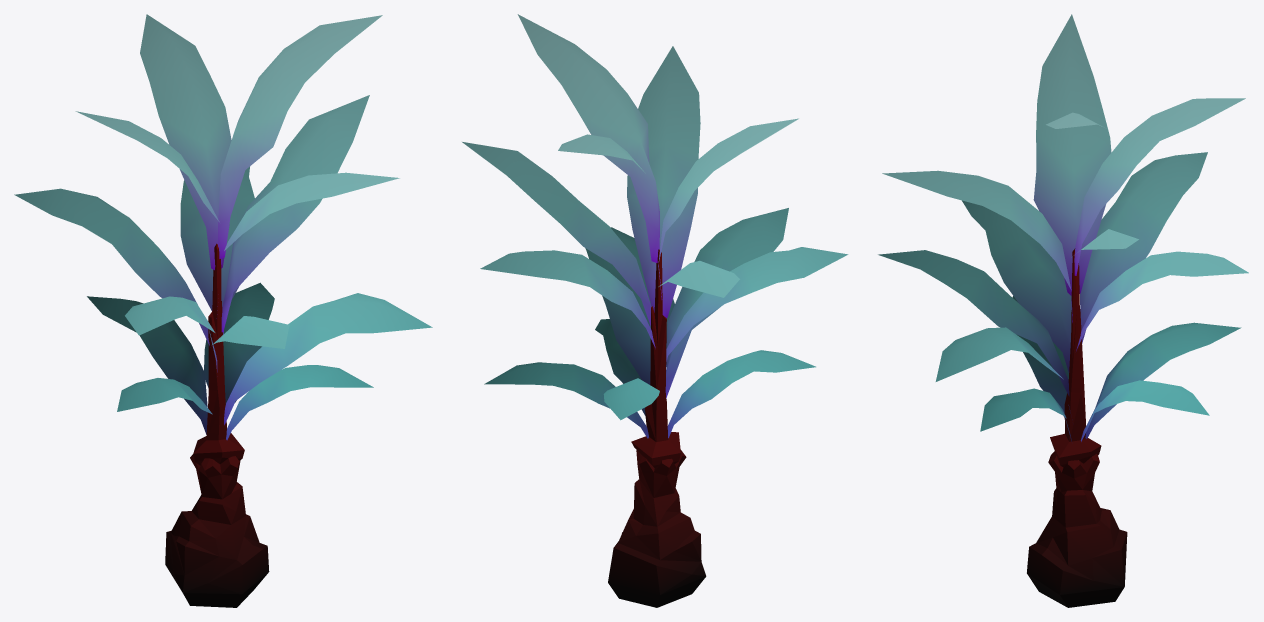
The model's file is SM_Env_Bush_Palm_01.glb.
3 views of the same model, side by side, from view 1: azimuth 30°, elevation 25°; view 2: azimuth 150°, elevation 25°; view 3: azimuth 270°, elevation 25° (orthographic). The views are drawn at different scales.
Visible parts, largest first — view 1: SM_Env_Bush_Palm_01_LOD0; view 2: SM_Env_Bush_Palm_01_LOD0; view 3: SM_Env_Bush_Palm_01_LOD0.
Boxes of the visible parts, box(x1,y1,x2,y2) form: SM_Env_Bush_Palm_01_LOD0: box(14, 14, 432, 607); SM_Env_Bush_Palm_01_LOD0: box(462, 14, 848, 607); SM_Env_Bush_Palm_01_LOD0: box(878, 14, 1248, 607).
Size of what is drawn, in the model's own units: 2.41 by 3.98 by 2.47.
